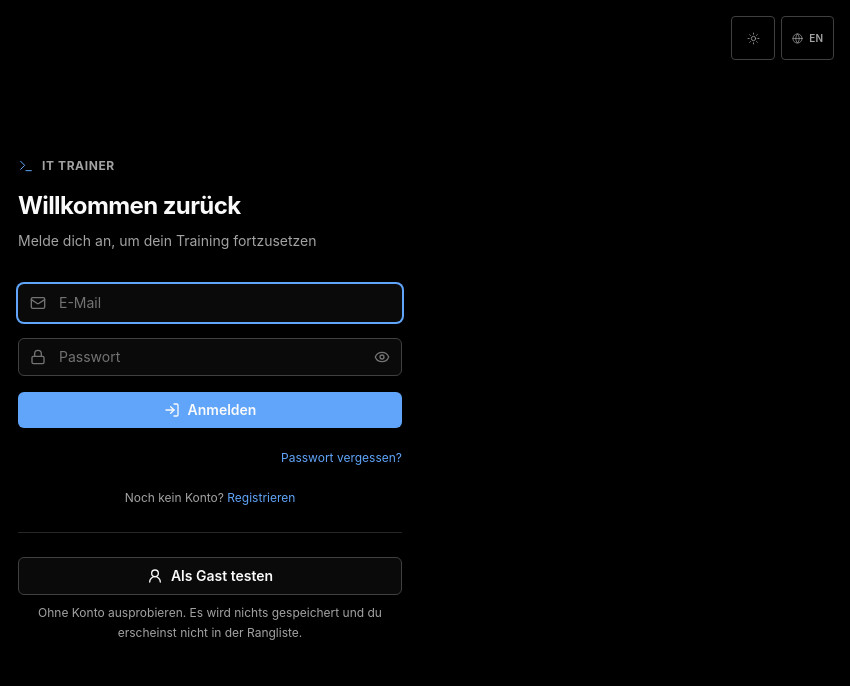
Test case: WelcomeScreen › register › shows an error when the passwords do not match
The image size is (850, 686).
Click the button "Noch kein Konto? Registrieren": (210, 498) left=125, top=490, right=295, bottom=506
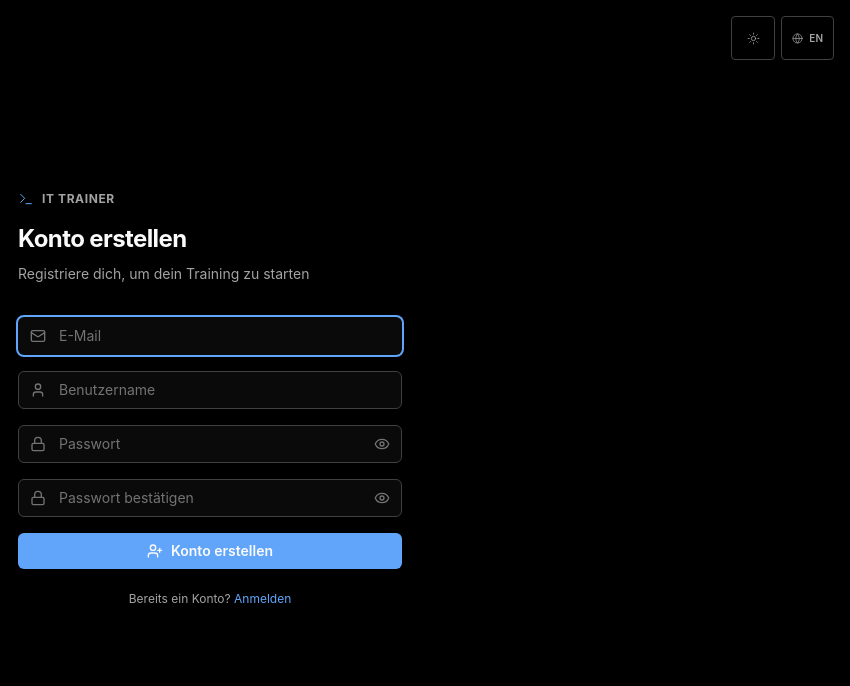
In the field labelled "E-Mail": (210, 336) left=18, top=317, right=402, bottom=355, type "alice@example.com"
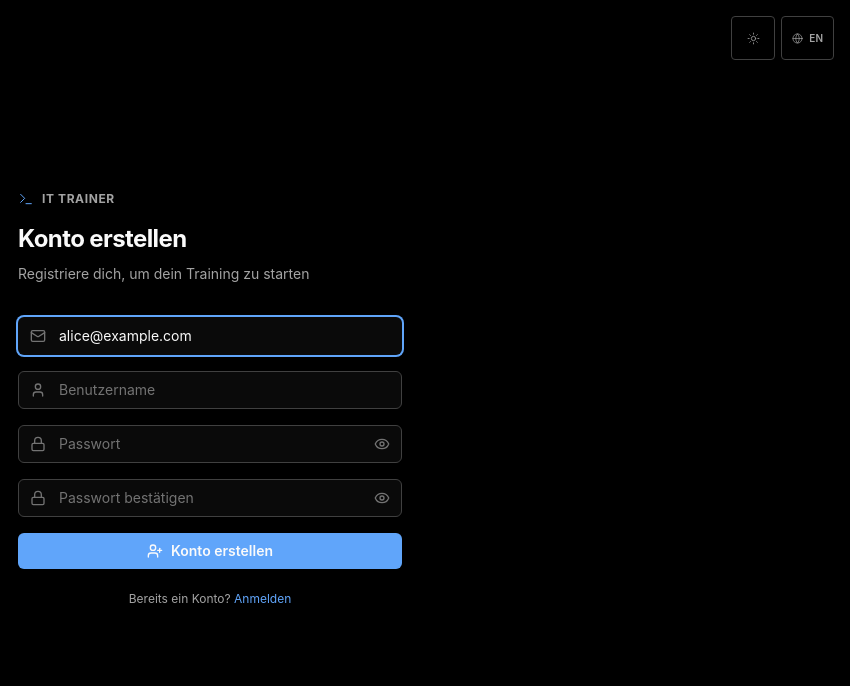
In the field labelled "Benutzername": (210, 390) left=18, top=371, right=402, bottom=409, type "alice"
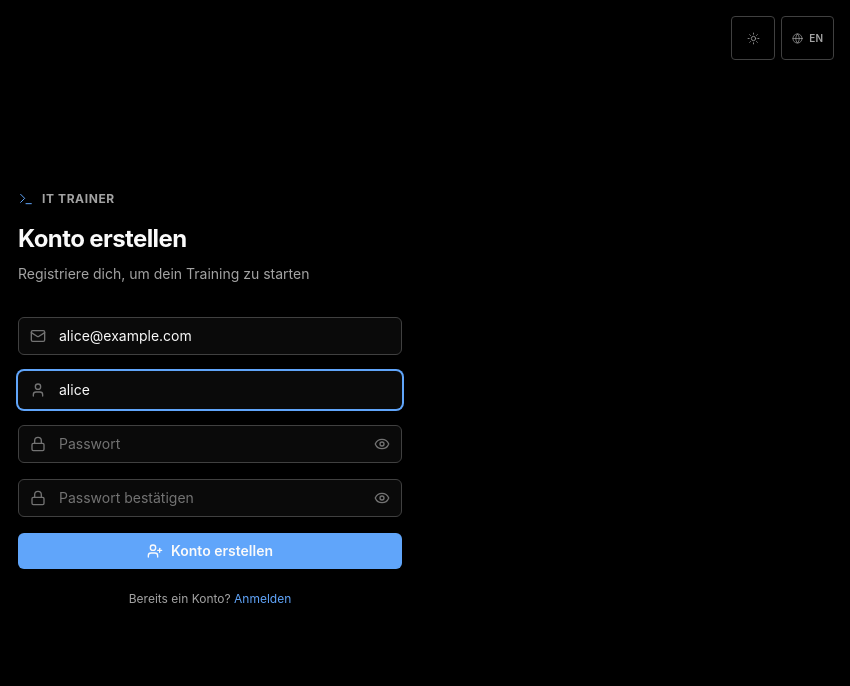
In the password field labelled "Passwort": (210, 444) left=18, top=425, right=402, bottom=463, type "Test1234!"
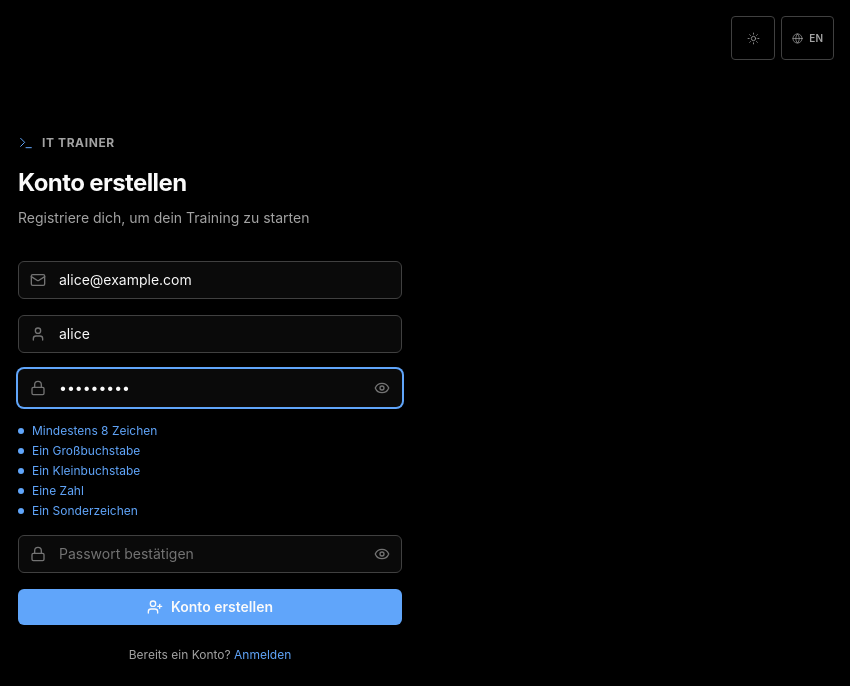
In the password field labelled "Passwort bestätigen": (210, 554) left=18, top=535, right=402, bottom=573, type "Other1234!"
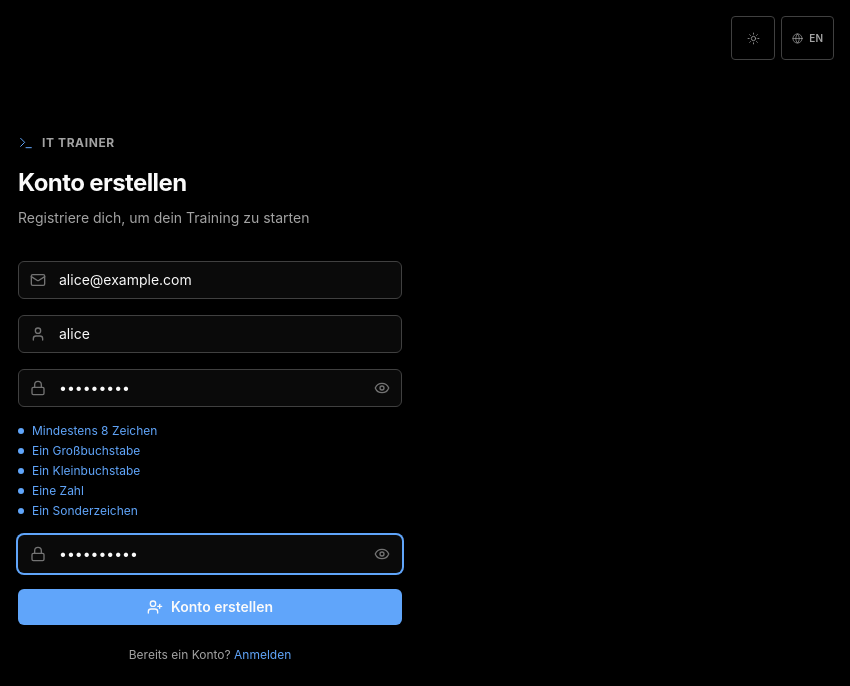
Click the button "Konto erstellen": (210, 607) left=18, top=589, right=402, bottom=625
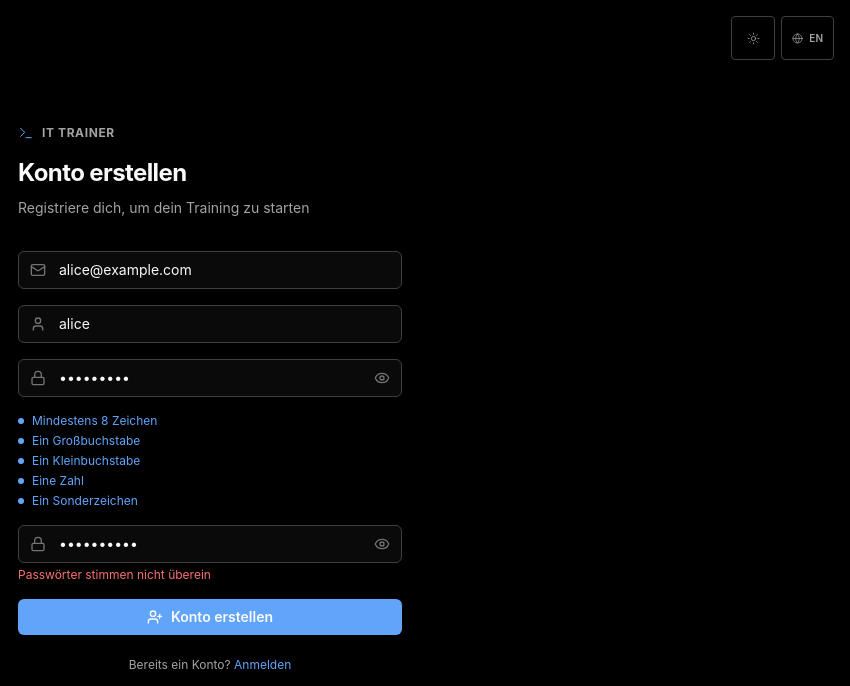
Check: the text "Passwörter stimmen nicht überein" is shown, box left=18, top=567, right=211, bottom=582
